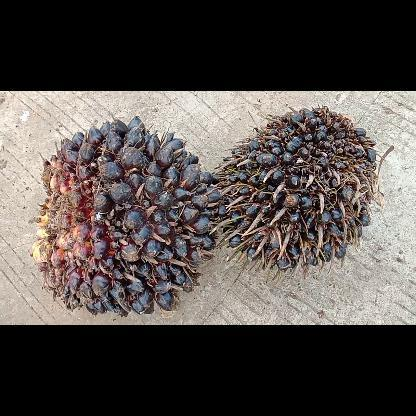TBS mentah: (27, 116, 220, 316), (212, 103, 386, 273)
